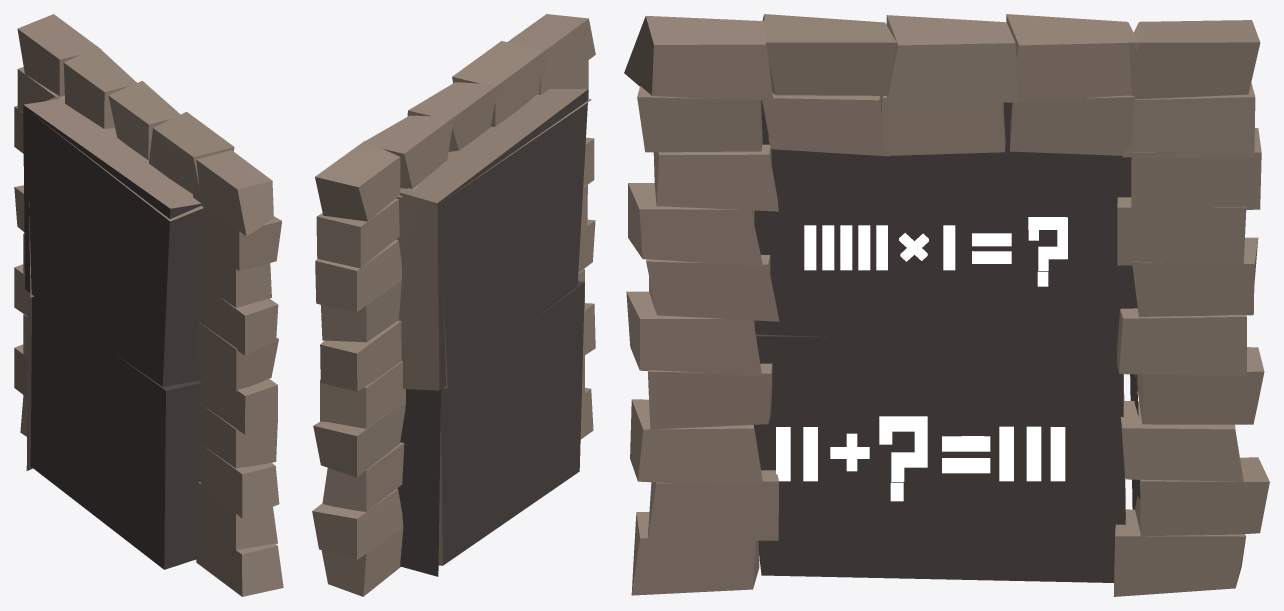
Rendered from Puzzle Wall 5.fbx.
The picture shows the model from 3 angles, left to right: view 1: azimuth 30°, elevation 25°; view 2: azimuth 150°, elevation 25°; view 3: azimuth 270°, elevation 25°; orthographic projection. The views are drawn at different scales.
Parts seen in each view (by area): view 1: Cube.019; view 2: Cube.019; view 3: Cube.019.
Part boxes in pixels (left/top/right/bottom): Cube.019: left=14, top=14, right=283, bottom=596; Cube.019: left=312, top=14, right=595, bottom=596; Cube.019: left=624, top=14, right=1269, bottom=596.
Bounding box in the file's own units: 409 × 2063 × 2177.
